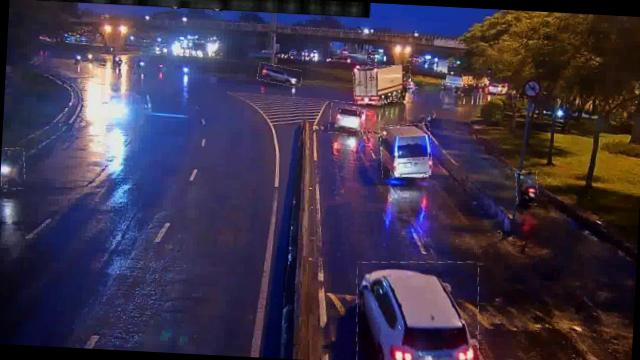Bike: (0, 147, 25, 189), (514, 171, 538, 205)
Bus: (378, 122, 433, 179)
Car: (352, 257, 481, 360), (329, 100, 366, 134), (257, 63, 302, 86)
Truck: (352, 64, 412, 105)
